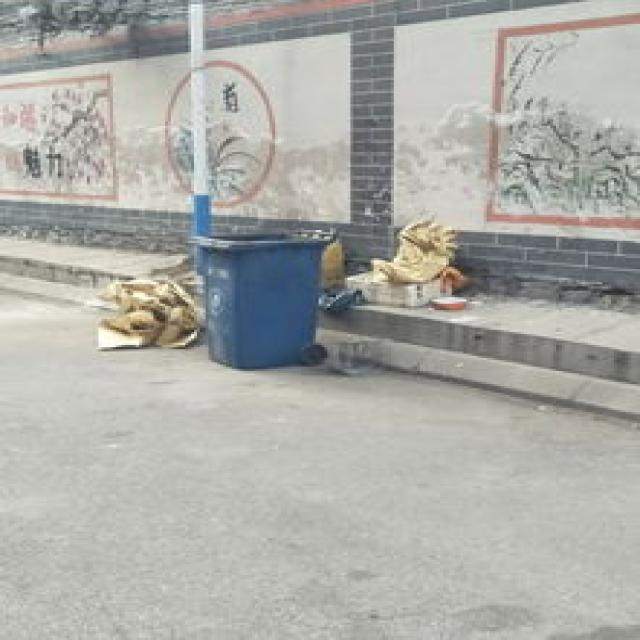garbage: (319, 217, 472, 310), (90, 274, 200, 352)
garbage_bin: (188, 225, 333, 368)
